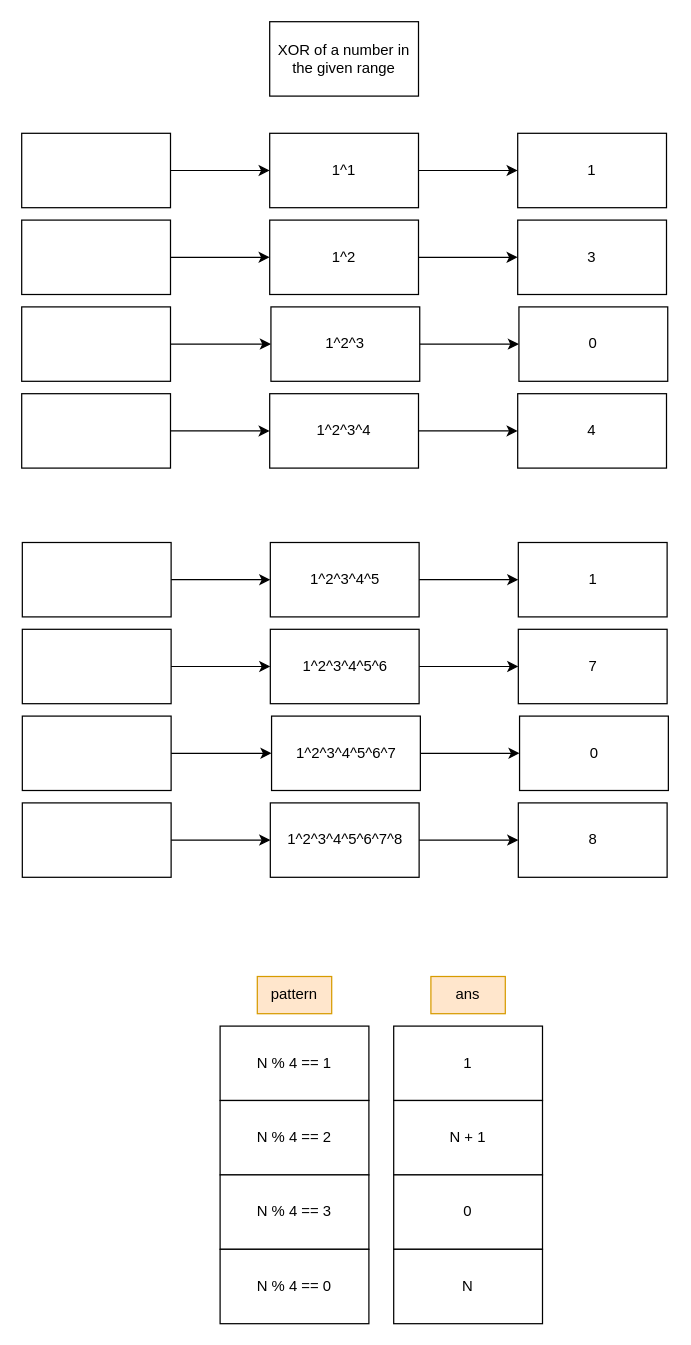
This 691x1345 diagram has some shape labels left out. The centre of each missing label's shape, as x and y in pixels:
N = 1: point (95, 170)
N = 2: point (95, 256)
N = 3: point (95, 343)
N = 4: point (95, 430)
N = 5: point (96, 579)
N = 6: point (96, 666)
N = 7: point (96, 752)
N = 8: point (96, 839)
